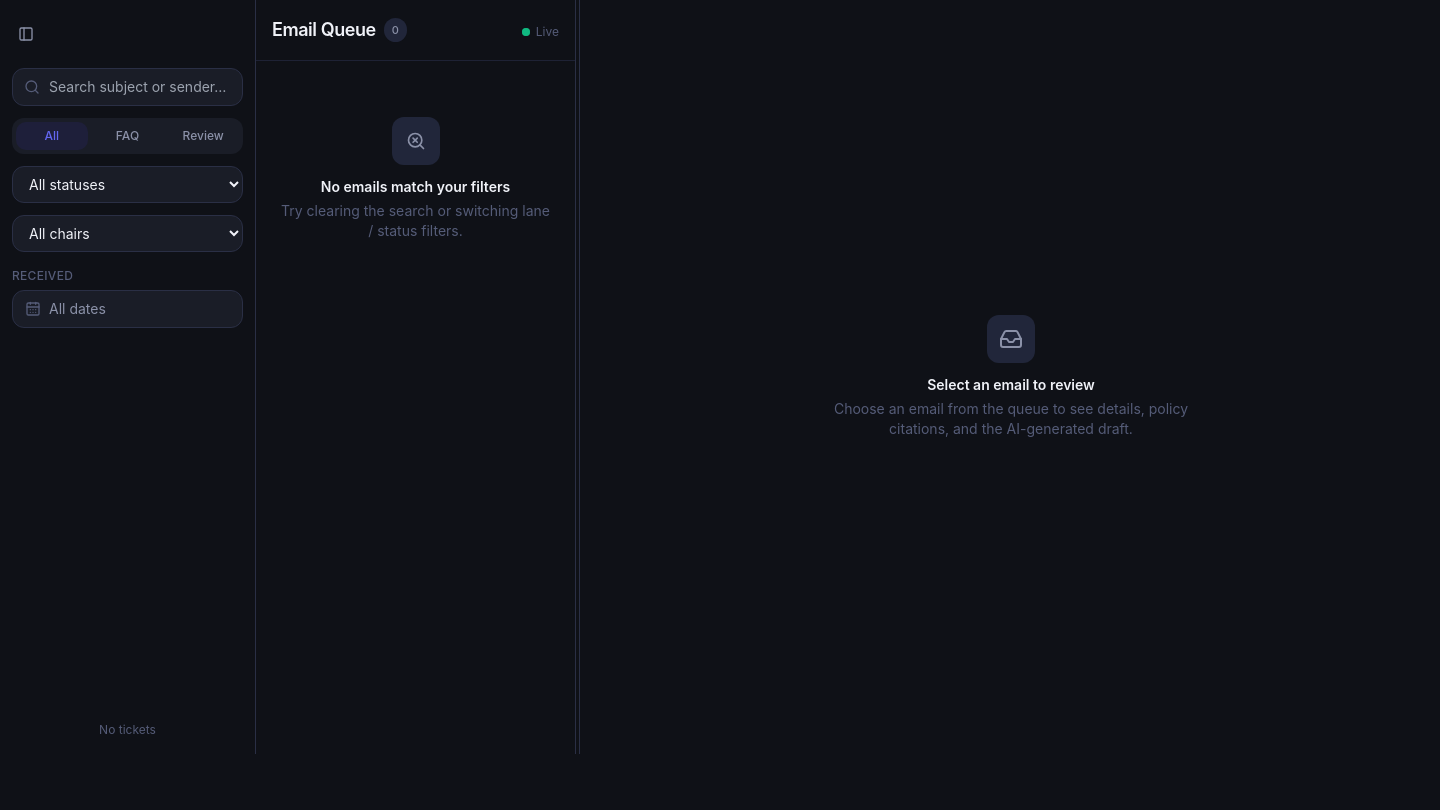
filter column — collapse toggle button (N4b) › shows the action label in a tooltip on hover
Hover over the button named "Hide filters" at (26, 34), box [8,16,44,52]
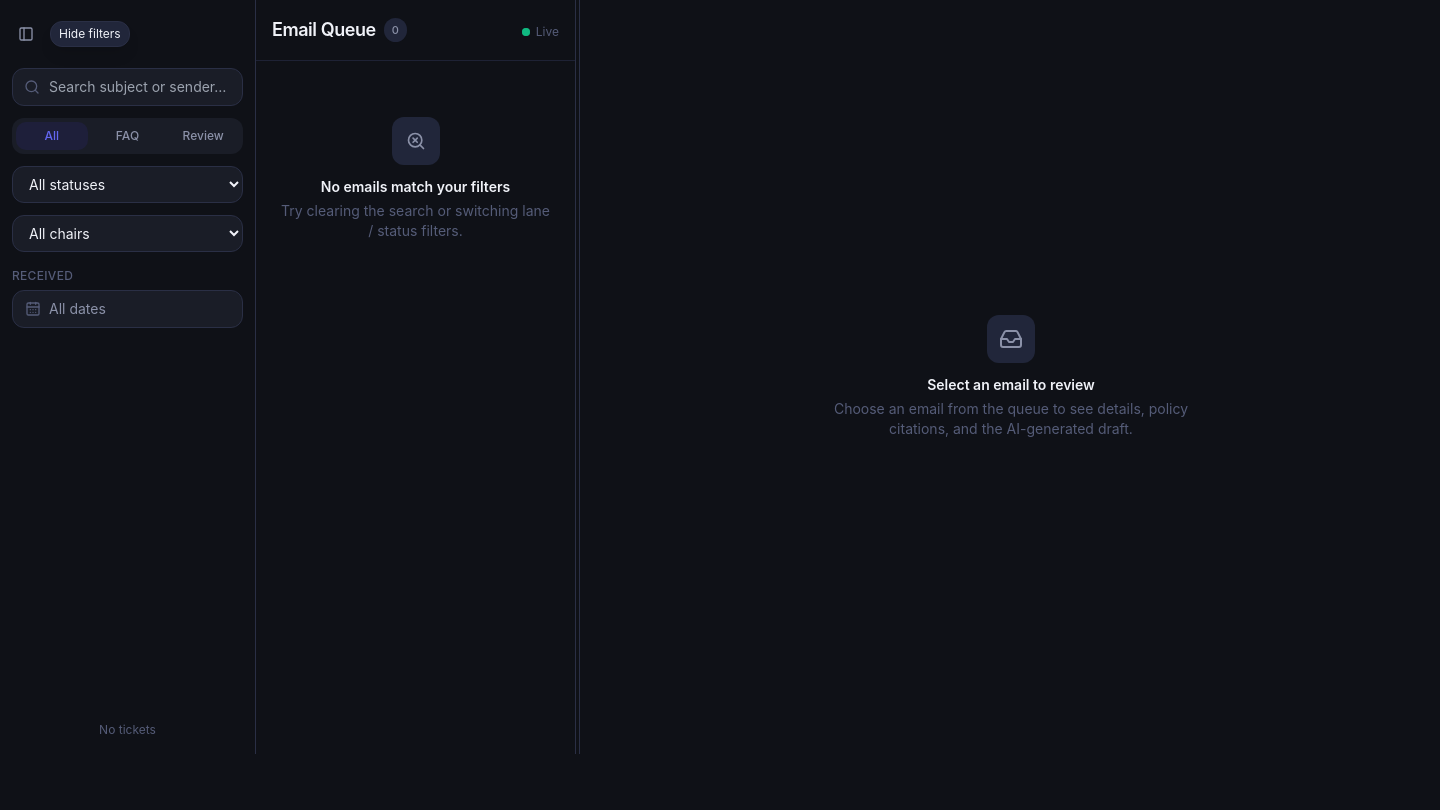
Result: the tooltip reads "Hide filters" at [59,26,121,41]
